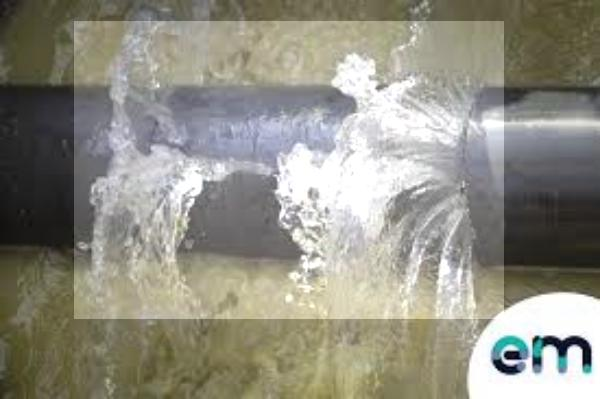water: (74, 21, 504, 319)
